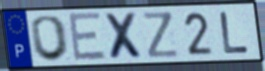2: (182, 11, 215, 57)
E: (66, 11, 108, 64)
L: (217, 10, 251, 55)
O: (29, 13, 72, 63)
X: (102, 11, 147, 61)
Z: (141, 10, 182, 60)
